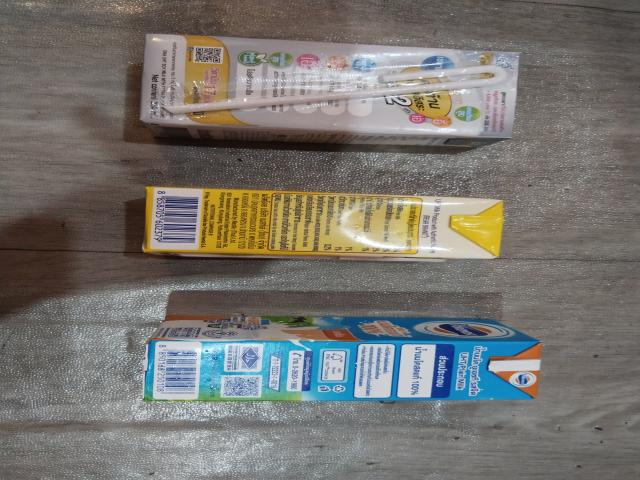drink_box: (134, 27, 540, 150), (137, 314, 556, 406), (126, 183, 507, 264)
